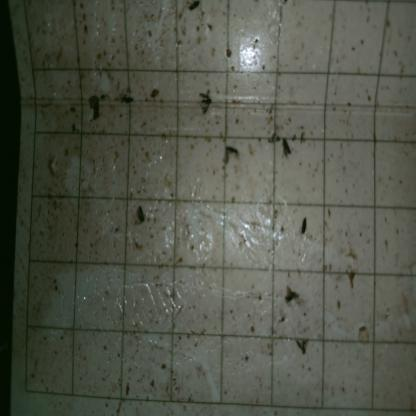prays_oleae: (196, 84, 216, 118), (132, 198, 150, 232), (118, 83, 136, 115), (278, 136, 298, 164), (298, 212, 312, 252), (293, 332, 312, 359), (224, 140, 241, 162)
